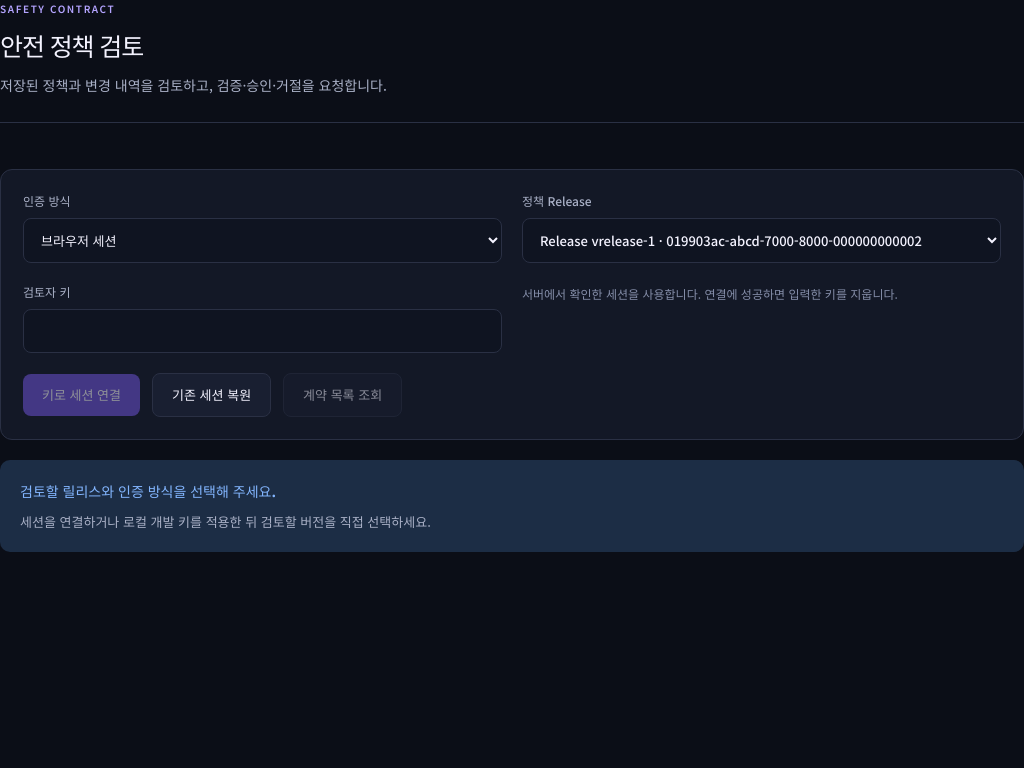
stored contract page selection and authority › uses detail state rather than a stale VALIDATED list badge and does not leak A private evidence
Select "로컬 개발 키" in the dropdown labelled "인증 방식" at {"x": 262, "y": 241}, box [23,218,502,263]
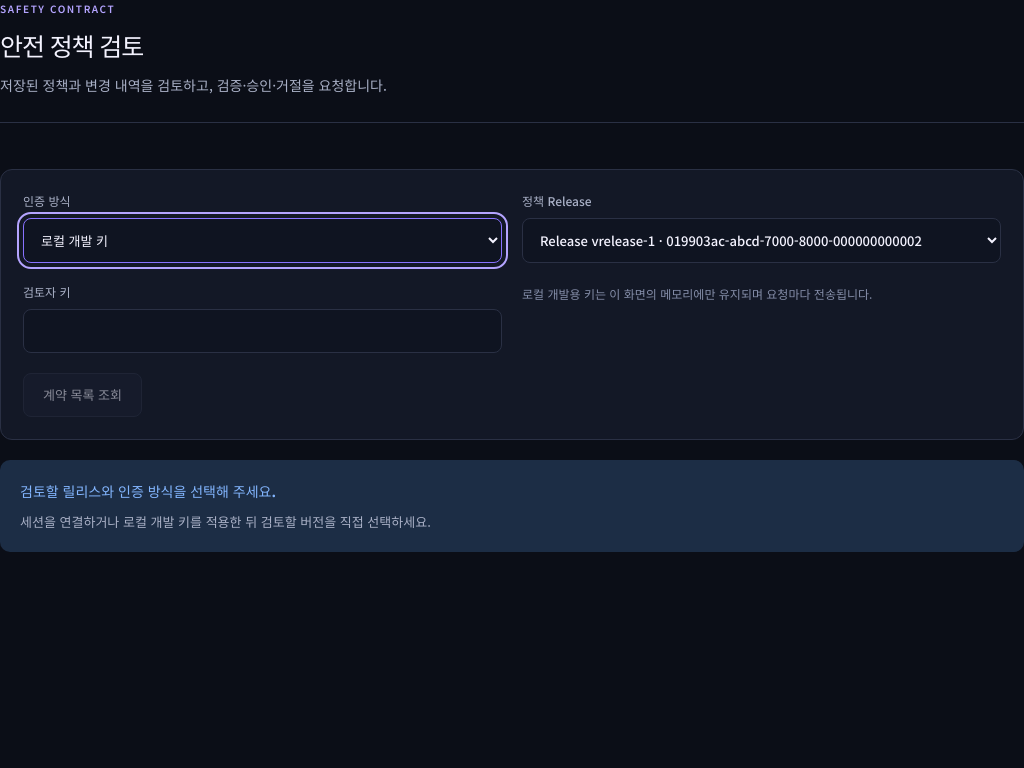
Type "SYNTHETIC_PAGE_REVIEWER_CANARY_0123456789" into the password field labelled "검토자 키" at {"x": 262, "y": 331}, box [23,309,502,353]
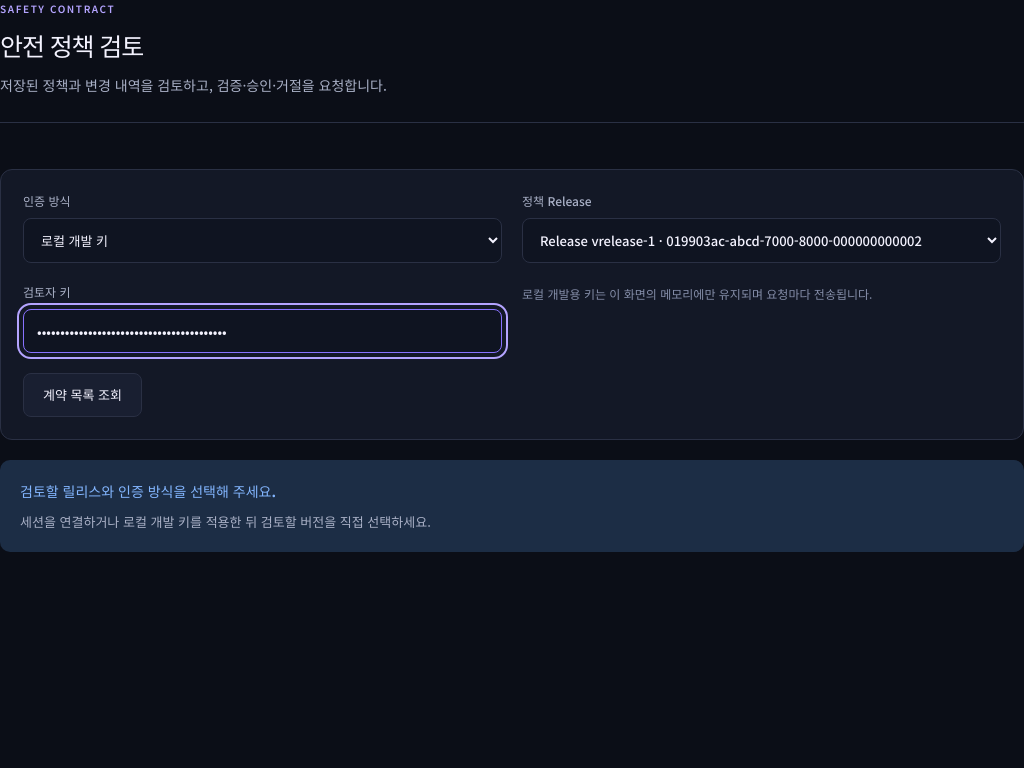
Click the button "계약 목록 조회" at {"x": 82, "y": 395}, box [23,373,142,417]
(page scrolled)
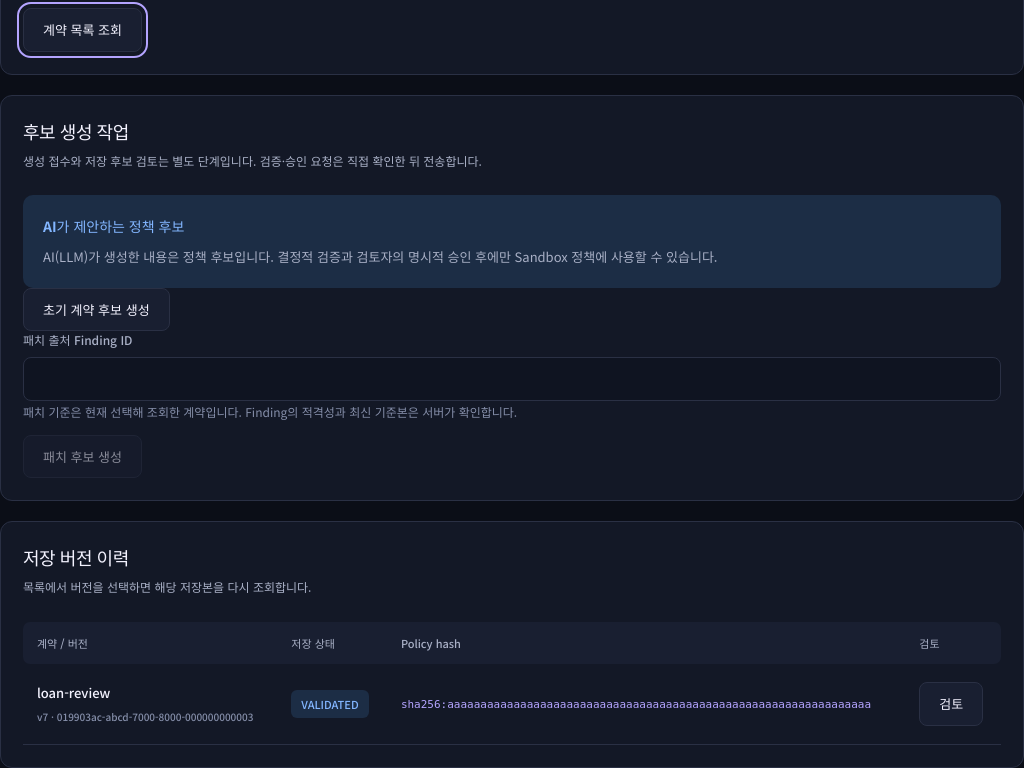
Click the button with aria-label "계약 loan-review v7 선택" at {"x": 951, "y": 704}, box [919,682,983,726]
(page scrolled)
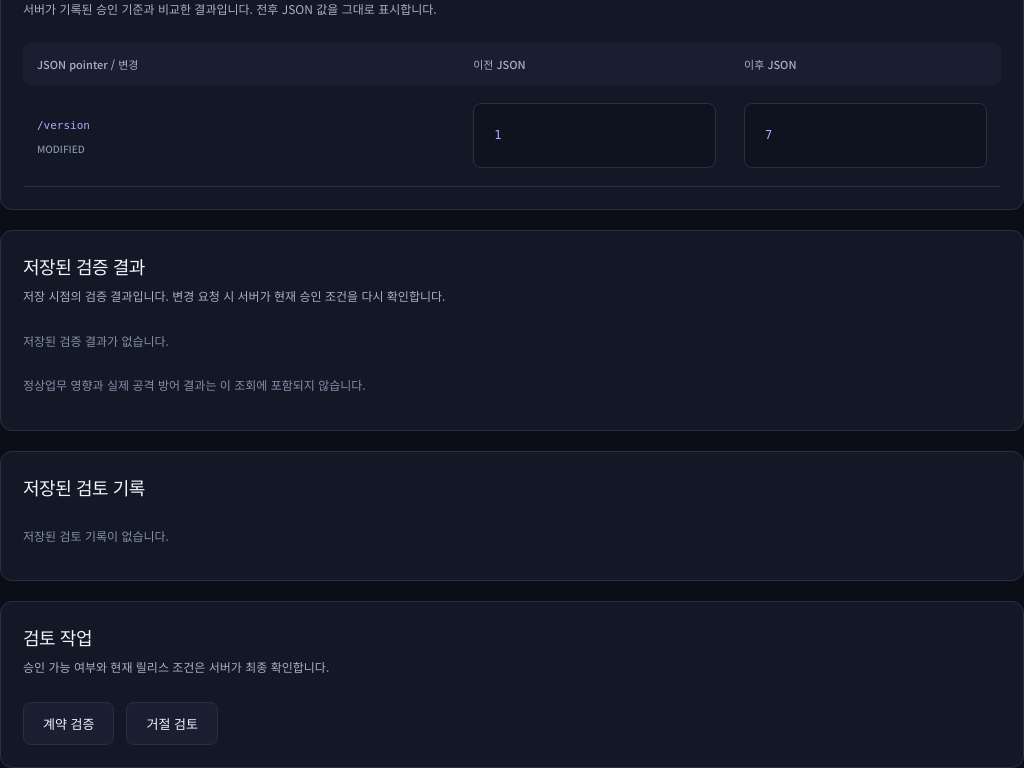
Now the button "계약 검증" is enabled, box [23,702,114,745]
Now the button "거절 검토" is enabled, box [126,702,218,745]
